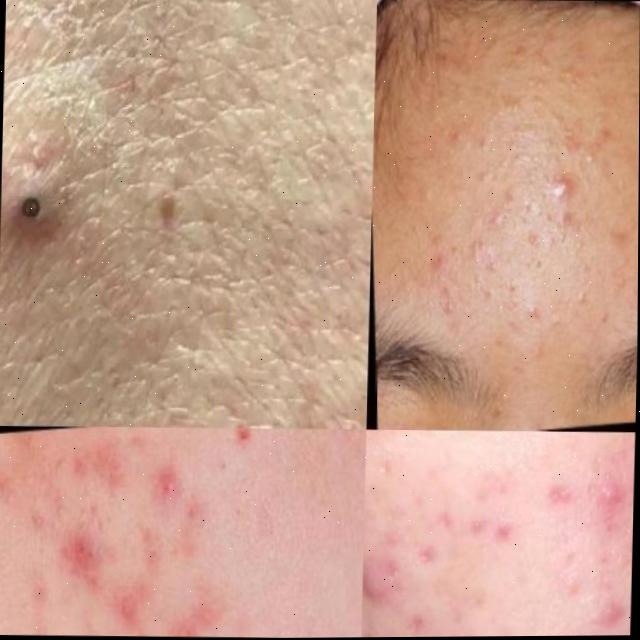Acne: (49, 428, 267, 639), (443, 461, 634, 637), (489, 101, 639, 315), (17, 184, 75, 237)
